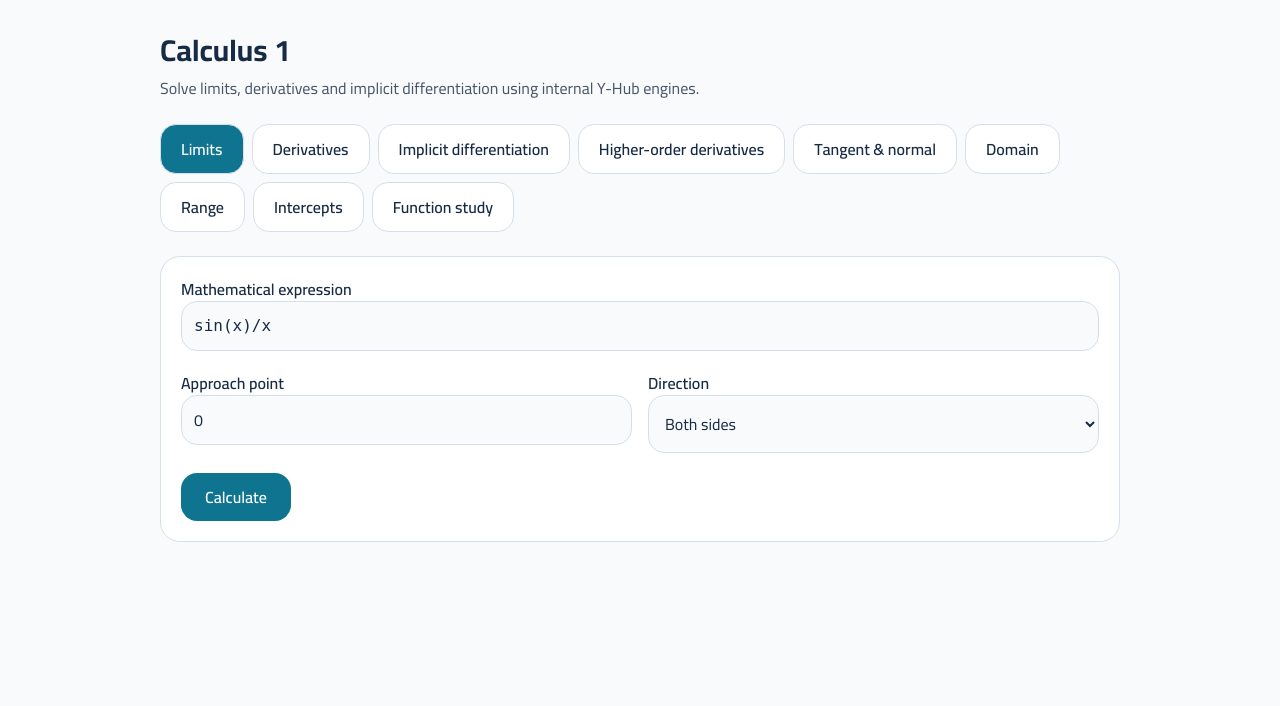
Scenario: Calculus 1 function study UI › displays candidate results from the real study service
Click the tab "Function study". click: (443,207)
box: [372, 182, 514, 232]
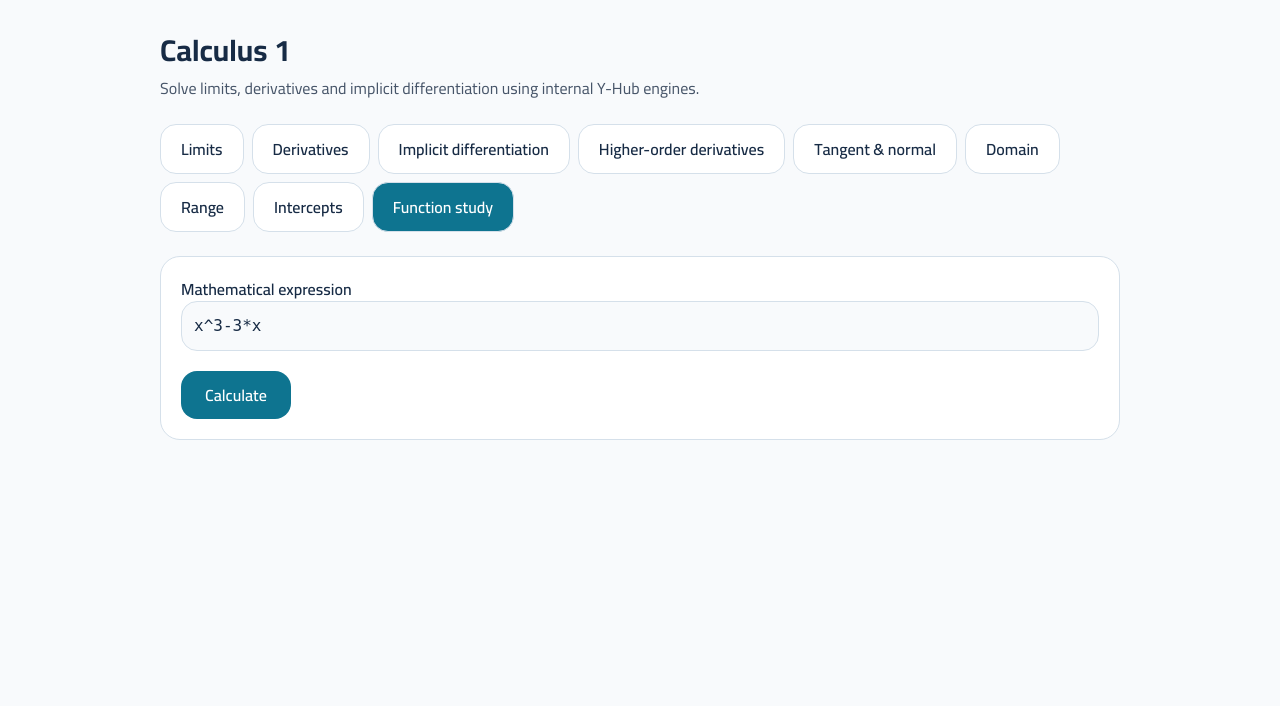
expect the field labelled "Mathematical expression" holds "x^3-3*x": met, box [181, 301, 1099, 351]
Click the button "Calculate". click: (236,395)
box: [181, 371, 291, 419]
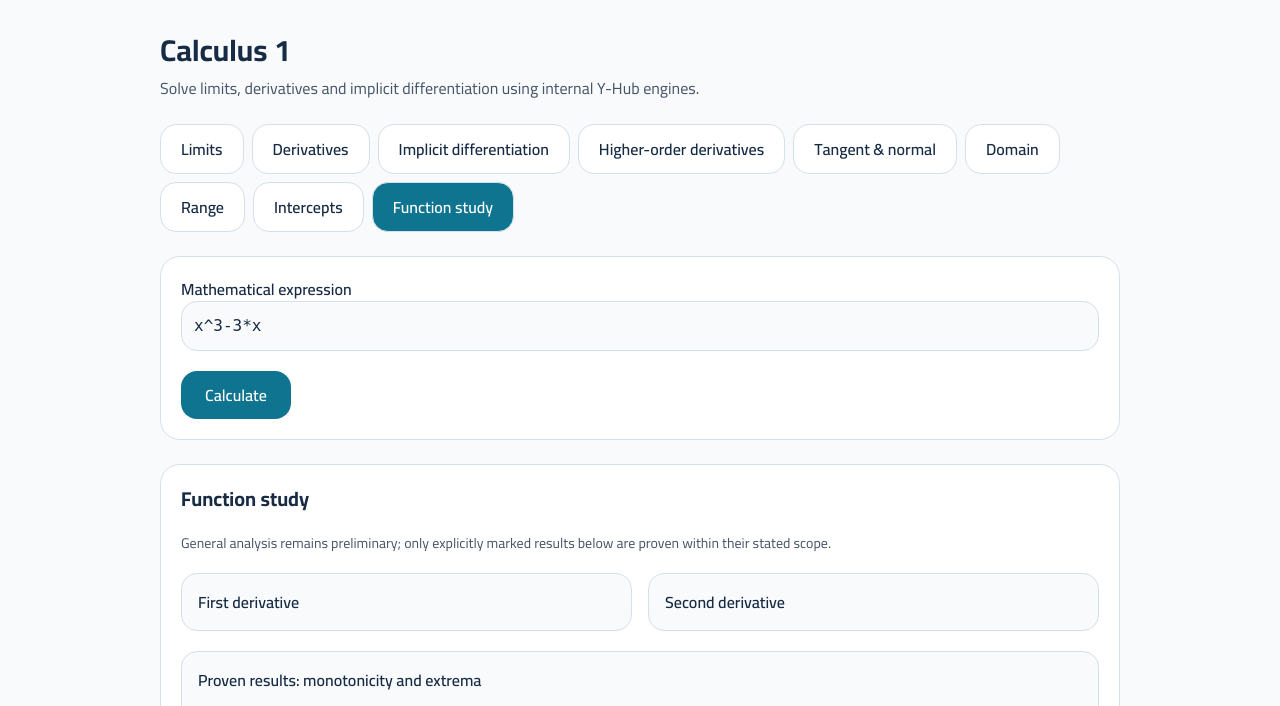
expect the text "General analysis remains preliminary; only explicitly marked results below are proven within their stated scope." is shown: met, box [181, 530, 831, 556]
expect the heading "First derivative" is shown: met, box [198, 587, 299, 617]
expect the heading "Second derivative" is shown: met, box [665, 587, 785, 617]
